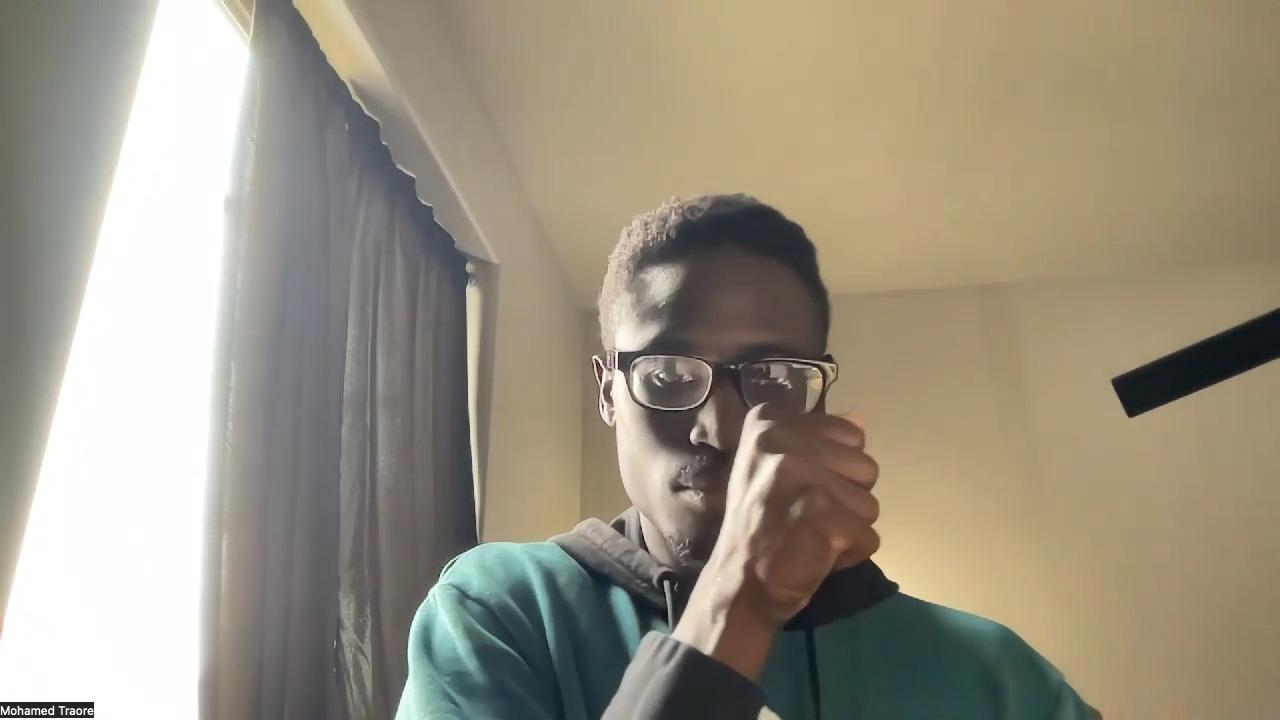Rock: (718, 400, 883, 626)
